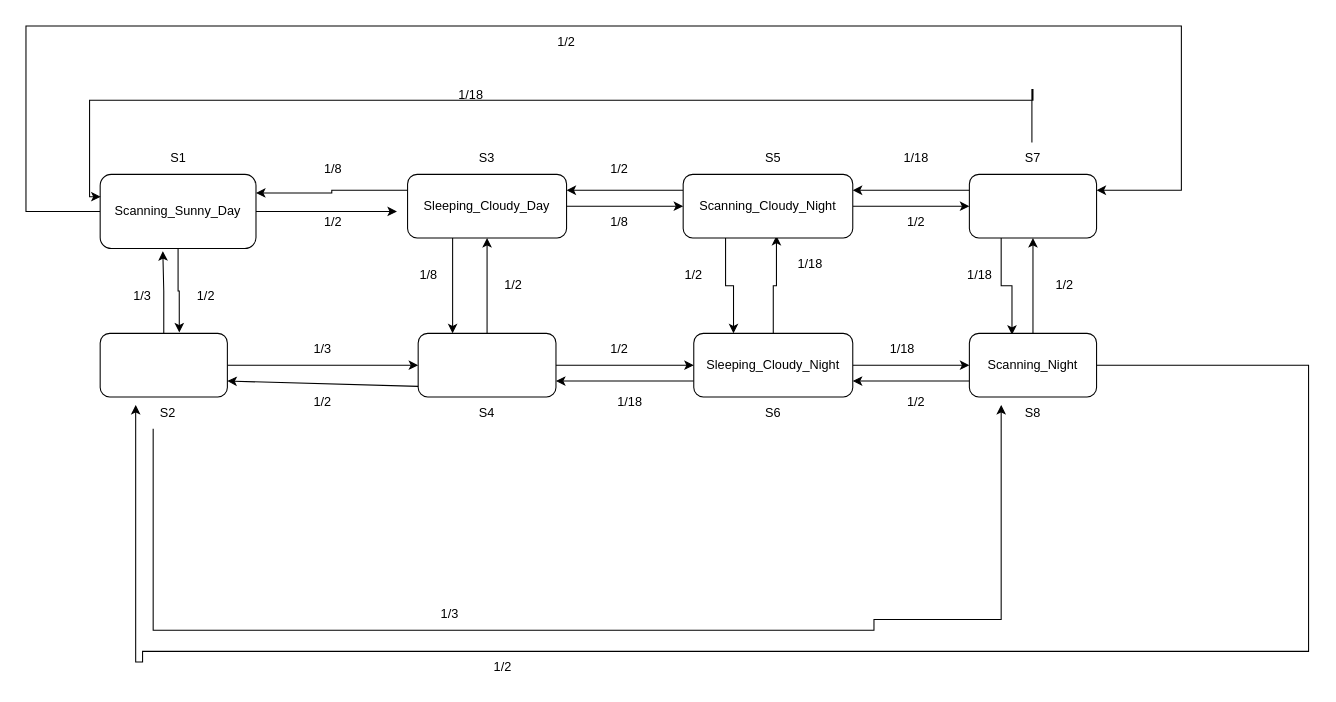
The diagram is 1336 pixels wide and 702 high, and some of its shapes have lost their labels. Each missing label, with the centre of its shape:
Scanning_Cloudy_Day: [486,364]
Sleeping_Night: [1032,205]
Sleeping_Sunny_Day: [163,364]
